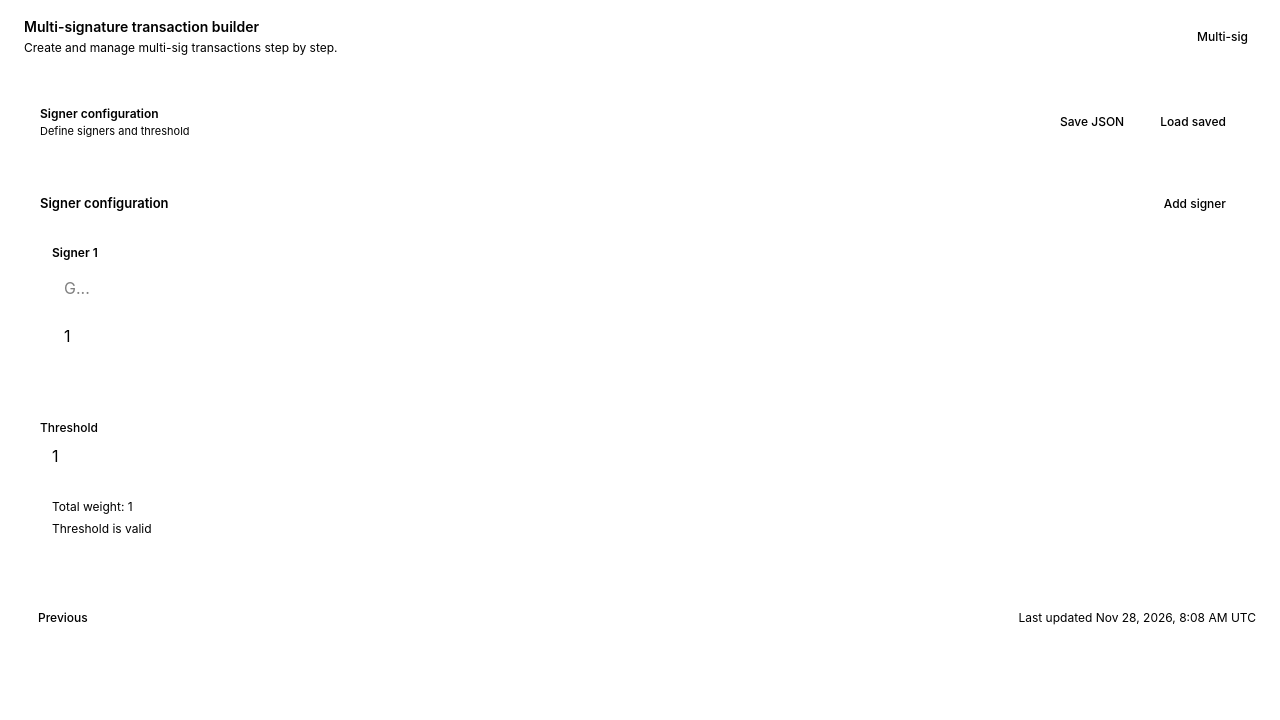
Test: MultiSigTransactionBuilder › rejects a threshold greater than the number of configured signers
Step 1. Click the button "Add signer" → (1195, 204), box [1150,188,1240,220]
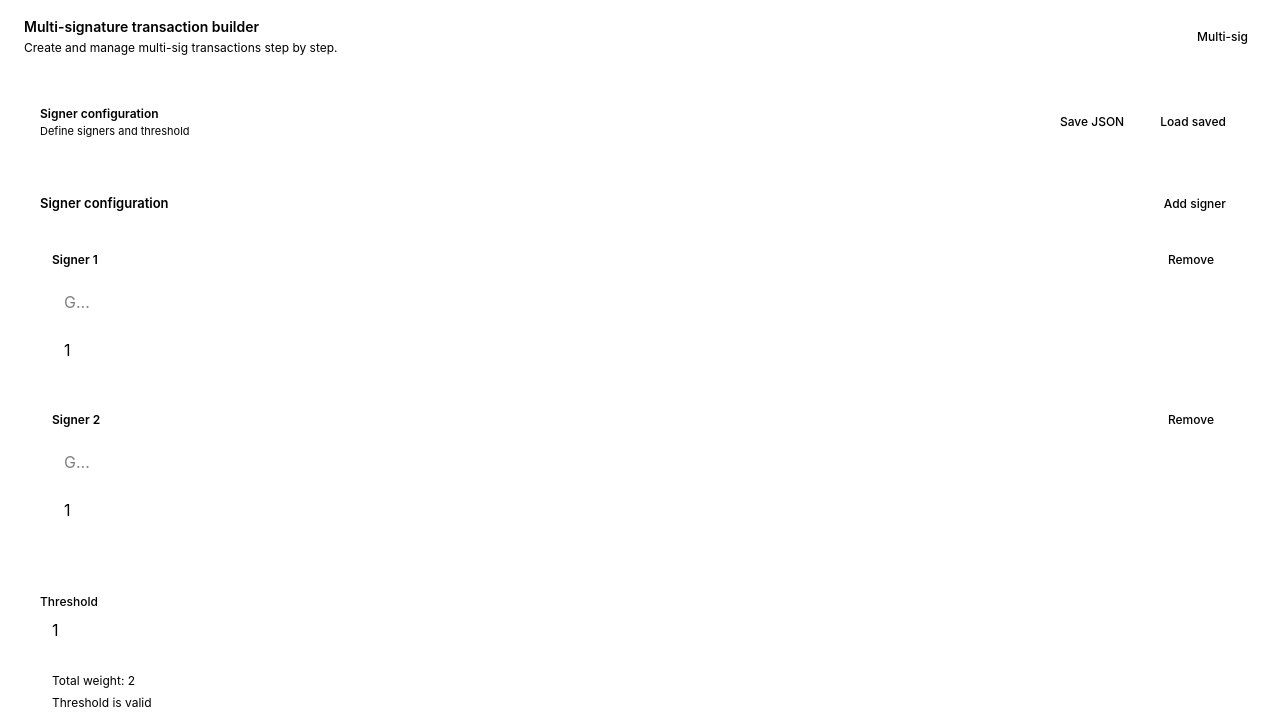
Step 2. Replace the text in the number field labelled "Threshold" with "3" → (640, 630), box [40,612,1240,648]
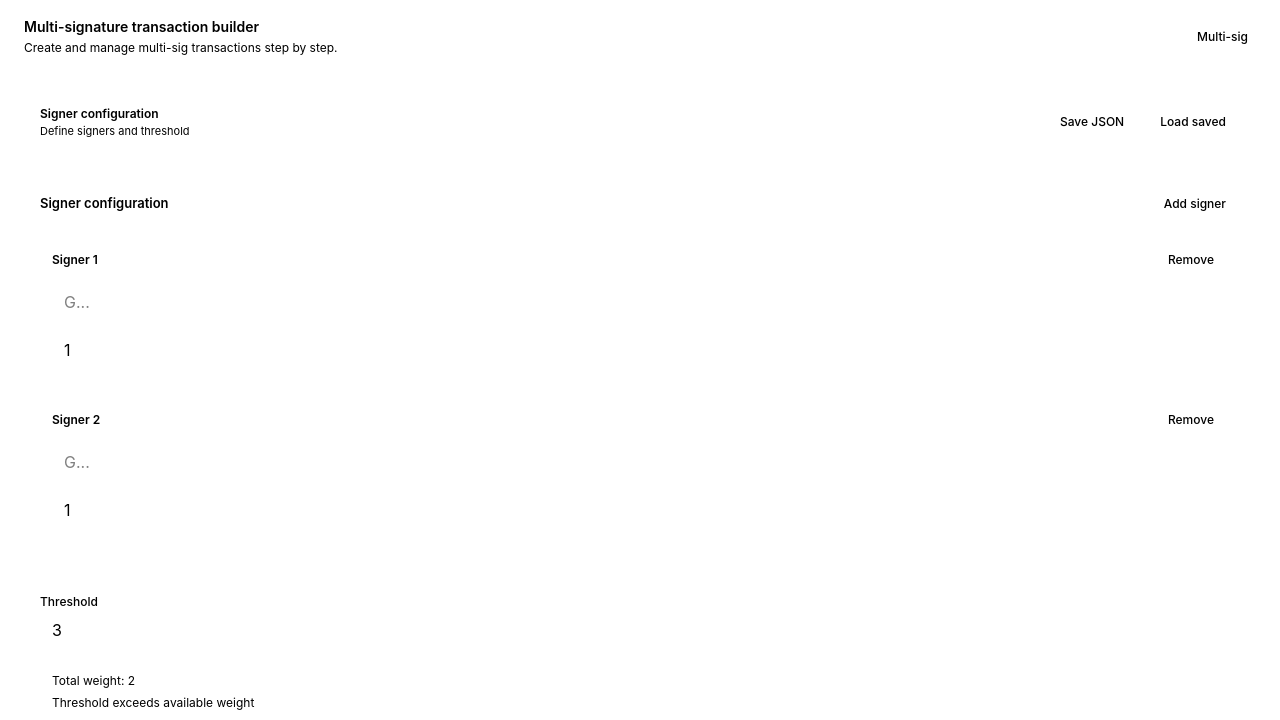
Expected: the text "Threshold exceeds available weight" is shown, [52,694,254,710]
Step 3. Replace the text in the number field labelled "Threshold" with "2" → (640, 630), box [40,612,1240,648]
(page scrolled)
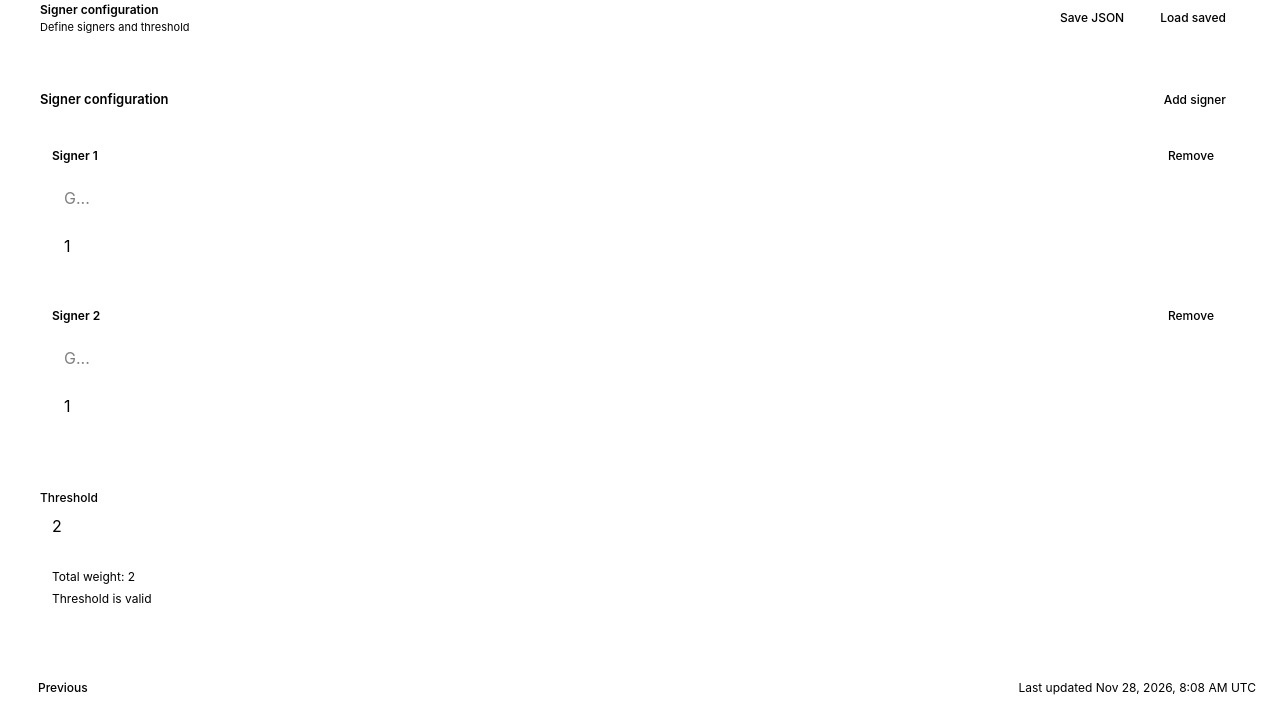
Expected: the text "Threshold exceeds available weight" is gone
